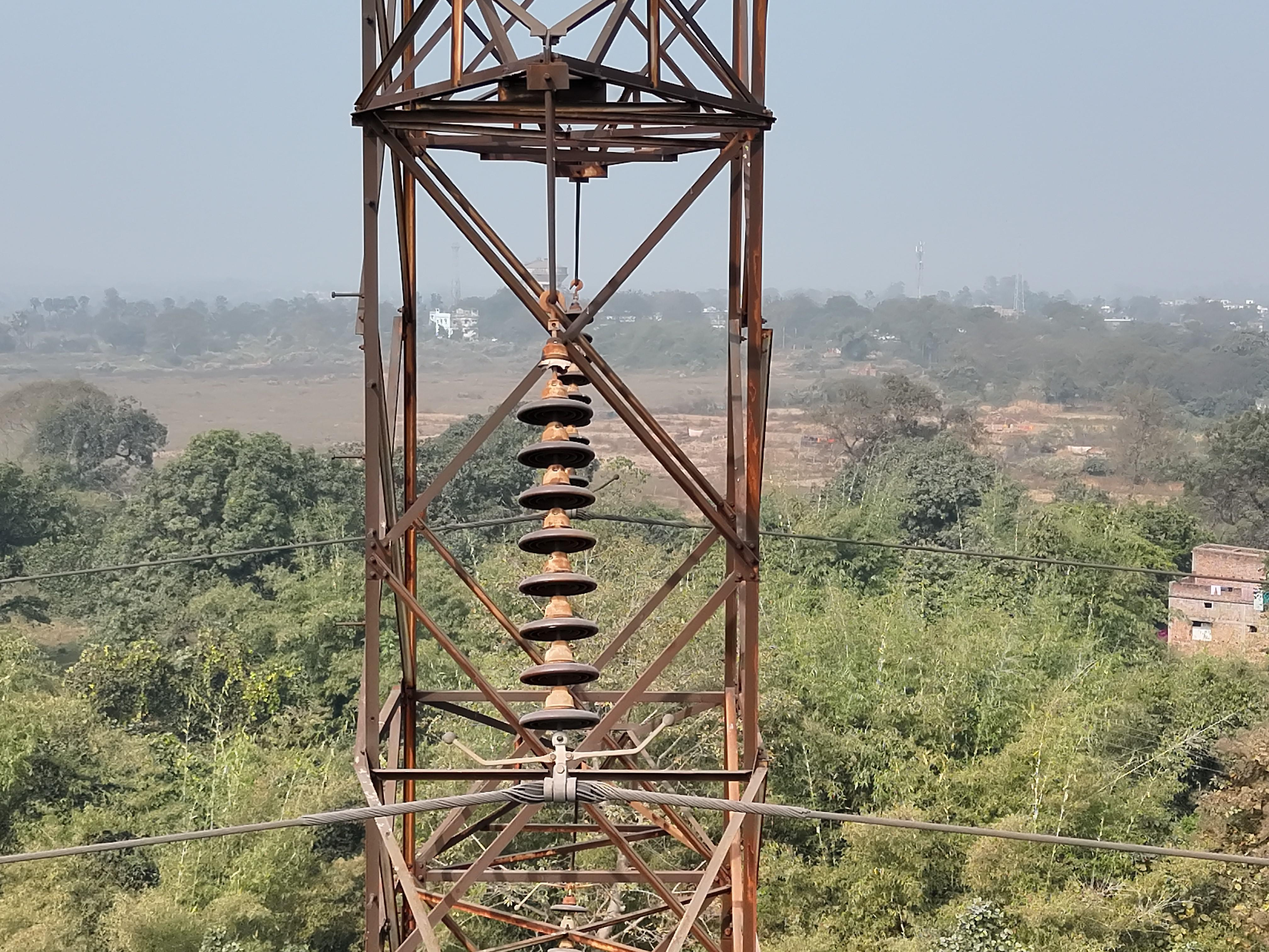broken_insulator: (517, 355, 599, 378)
